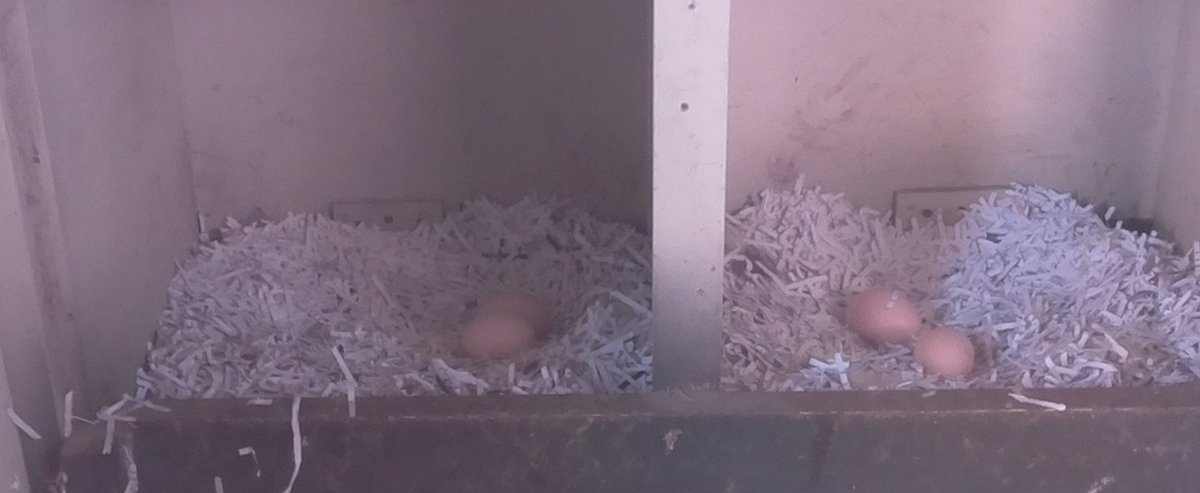egg: (844, 283, 925, 342), (474, 290, 552, 340), (458, 312, 537, 359), (912, 323, 976, 381)
